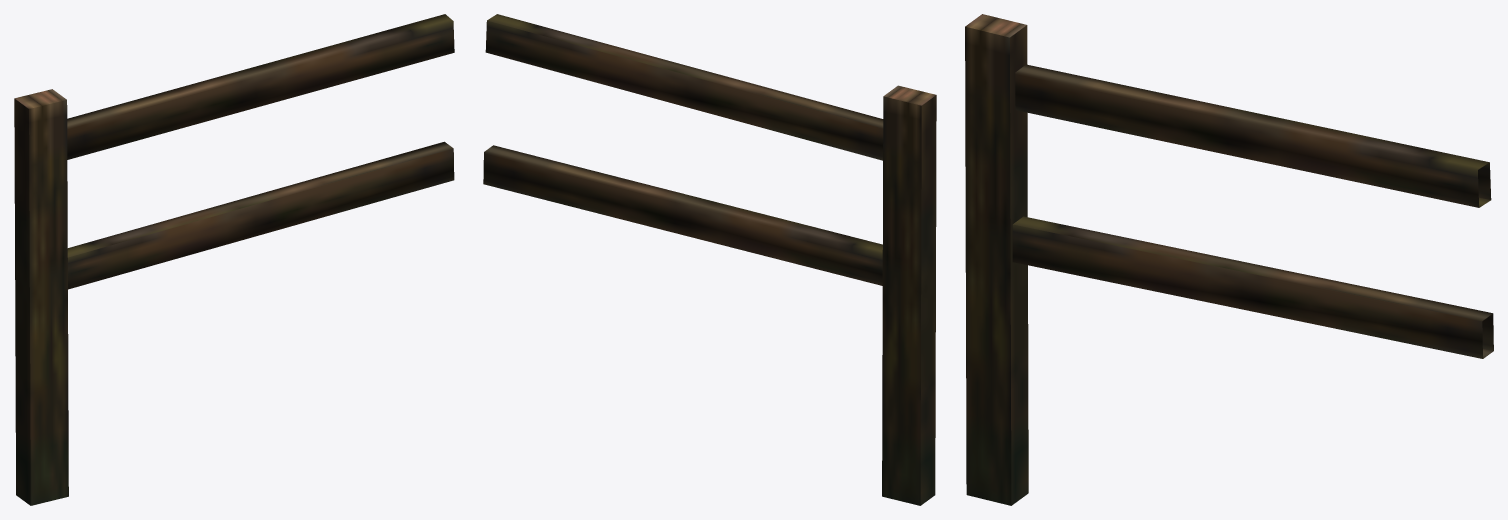
The model's file is general_obj_fence04_01.fbx.
3 views of the same model, side by side, from view 1: azimuth 30°, elevation 25°; view 2: azimuth 150°, elevation 25°; view 3: azimuth 330°, elevation 25° (orthographic). The views are drawn at different scales.
Parts seen in each view (by area): view 1: Sphere01; view 2: Sphere01; view 3: Sphere01.
Part boxes in pixels (x1,y1,x2,y2): Sphere01: (14,14,454,505); Sphere01: (483,14,936,505); Sphere01: (965,14,1493,505).
Bounding box in the file's own units: 2.44 × 2.14 × 0.1635.
